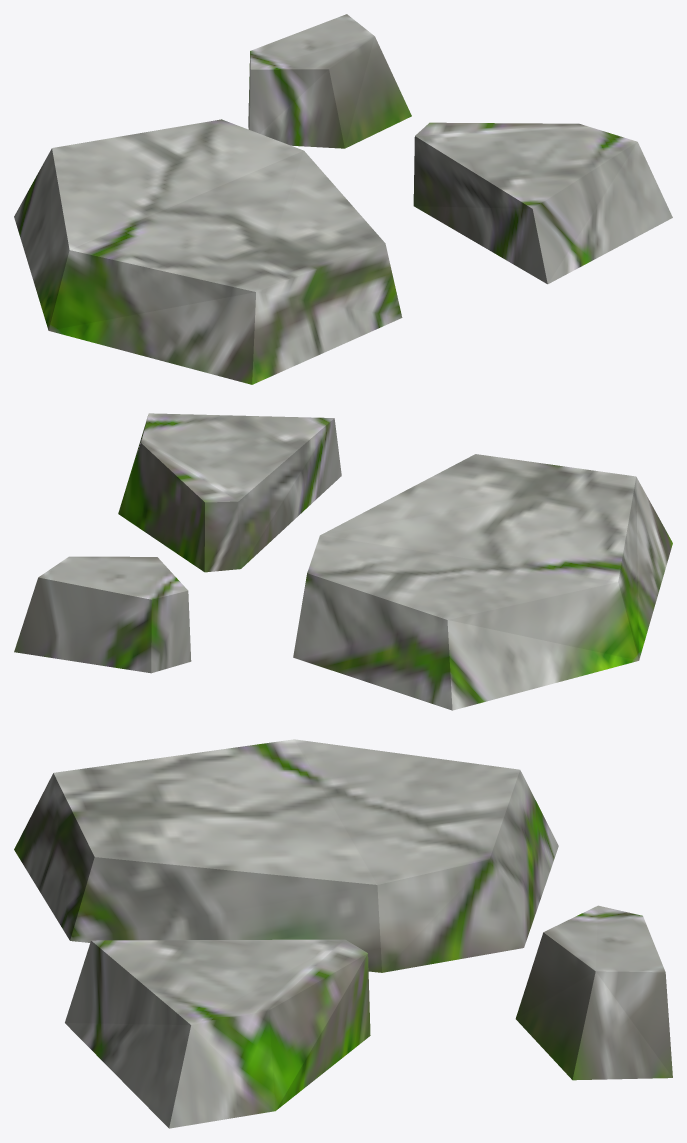
Rendered from F02_rock03.FBX.
3 renders of one model, top to bottom at view 1: azimuth 30°, elevation 25°; view 2: azimuth 150°, elevation 25°; view 3: azimuth 270°, elevation 25°, orthographic. The views are drawn at different scales.
Visible parts, largest first — view 1: F02_rock03; view 2: F02_rock03; view 3: F02_rock03.
Part boxes in pixels (left/top/right/bottom): F02_rock03: left=14, top=14, right=672, bottom=384; F02_rock03: left=14, top=413, right=672, bottom=710; F02_rock03: left=14, top=739, right=672, bottom=1128.
Size of the model in its own units: 313 by 46.89 by 266.
